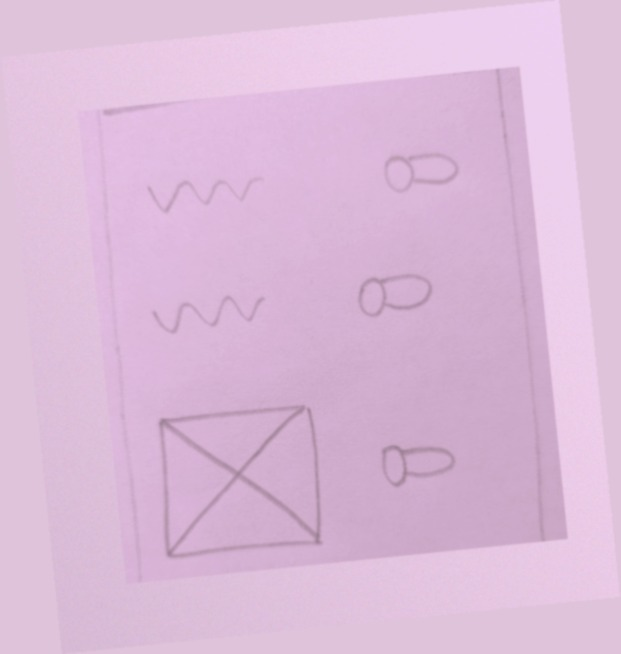image: (147, 394, 331, 569)
switch: (366, 134, 466, 201), (344, 259, 444, 326), (370, 428, 470, 495)
text: (144, 280, 280, 355), (140, 159, 276, 233)
